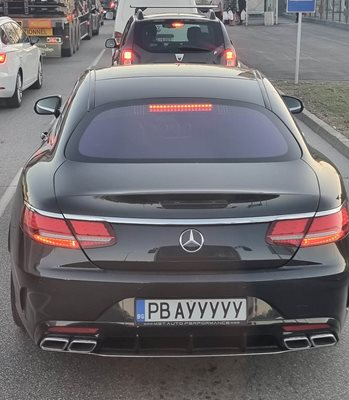registration_plate: (132, 298, 252, 327)
